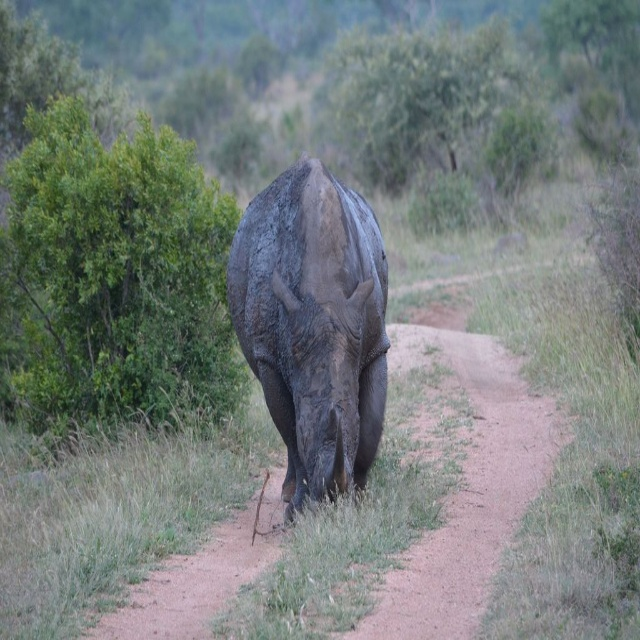Rhinoceros: (227, 151, 391, 529)
